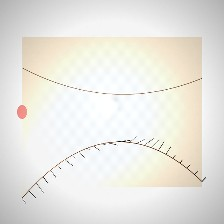pinguecula_lesion: (154, 100, 191, 130)
